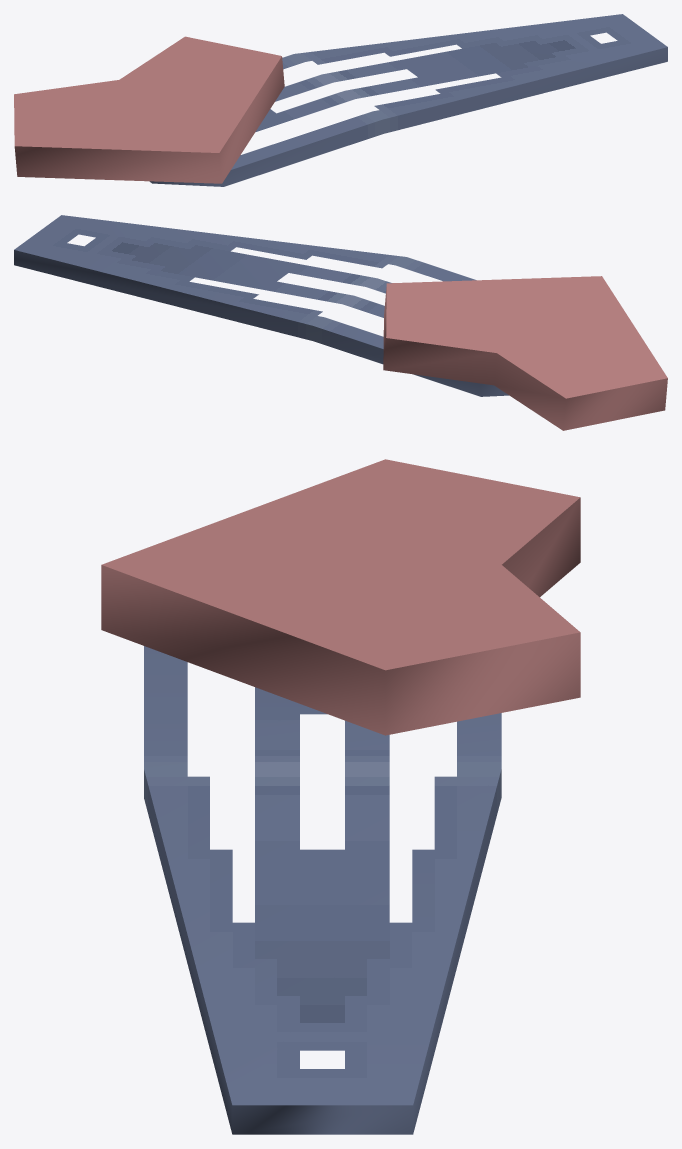
The model's file is 0428_Hairpin.glb.
3 views of the same model, one above another, from view 1: azimuth 30°, elevation 25°; view 2: azimuth 150°, elevation 25°; view 3: azimuth 270°, elevation 25° (orthographic). The views are drawn at different scales.
Visible parts, largest first — view 1: part_0; view 2: part_0; view 3: part_0.
Boxes of the visible parts, bbox=[...] form: part_0: bbox=[14, 14, 667, 186]; part_0: bbox=[14, 215, 667, 430]; part_0: bbox=[101, 459, 580, 1134].
Bounding box in the file's own units: 0.0601 × 0.00584 × 0.0203.
1 material, 1 textured.
